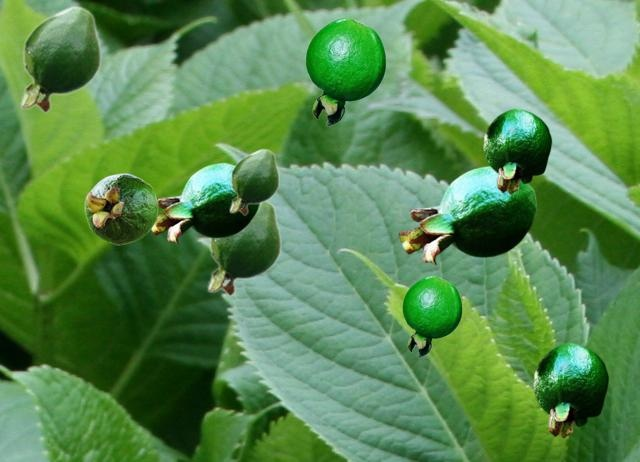guava: (398, 166, 536, 264), (151, 162, 259, 243), (305, 17, 385, 125), (20, 5, 100, 113), (533, 342, 608, 437), (207, 200, 280, 296), (483, 108, 551, 193), (84, 173, 157, 244), (402, 275, 461, 356), (229, 148, 278, 215)
